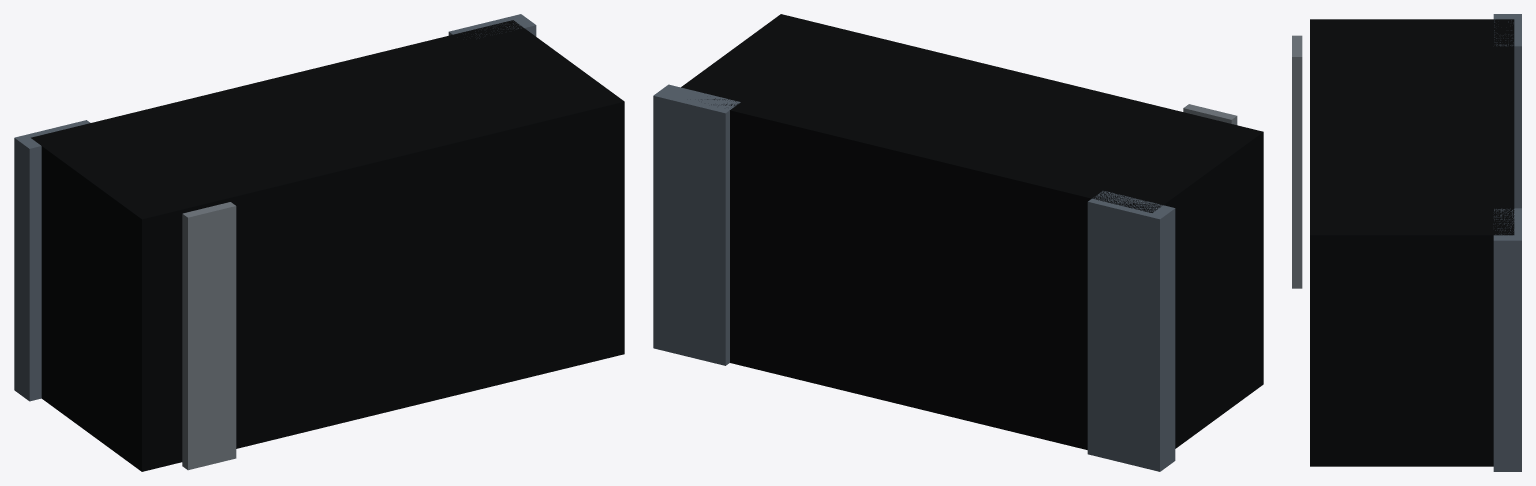
File: 102_L106_DIODE2.obj
The picture shows the model from 3 angles, left to right: view 1: azimuth 30°, elevation 25°; view 2: azimuth 150°, elevation 25°; view 3: azimuth 270°, elevation 25°; orthographic projection. The views are drawn at different scales.
Visible parts, largest first — view 1: BLACK, SILK, SOLDER; view 2: BLACK, SOLDER; view 3: BLACK, SOLDER, SILK.
Part boxes in pixels (x1,y1,x2,y2): BLACK: [31, 20, 624, 471]; SILK: [182, 202, 236, 470]; SOLDER: [14, 14, 536, 401]; BLACK: [681, 14, 1263, 449]; SOLDER: [653, 84, 1175, 471]; BLACK: [1310, 19, 1514, 466]; SOLDER: [1493, 14, 1521, 471]; SILK: [1292, 35, 1302, 288].
Size of the model in its own units: 0.0042 by 0.002 by 0.0018.
